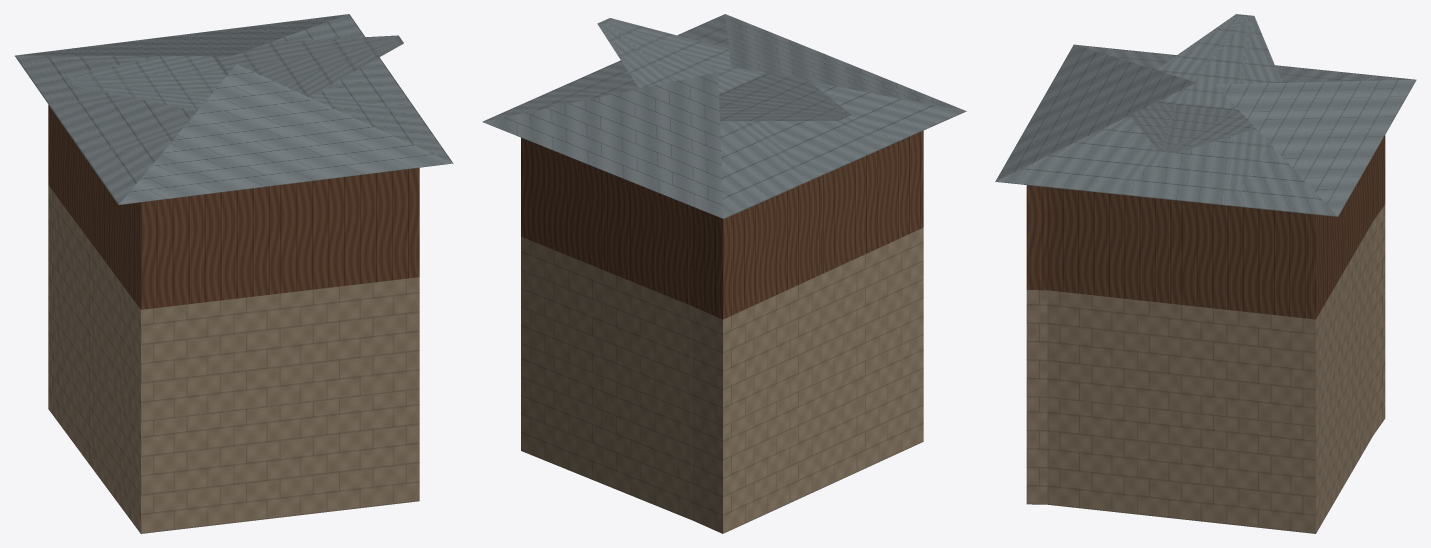
The model's file is bld_c9_37_500.gltf.
The picture shows the model from 3 angles, left to right: view 1: azimuth 30°, elevation 25°; view 2: azimuth 150°, elevation 25°; view 3: azimuth 270°, elevation 25°; orthographic projection. The views are drawn at different scales.
Parts seen in each view (by area): view 1: bld_c9_37_500; view 2: bld_c9_37_500; view 3: bld_c9_37_500.
Part boxes in pixels (x1,y1,x2,y2): bld_c9_37_500: (15,14,453,533); bld_c9_37_500: (482,14,966,533); bld_c9_37_500: (995,14,1416,533).
Bounding box in the file's own units: 7.82 × 8 × 8.09.
Materials: 3 (3 with a texture image).
